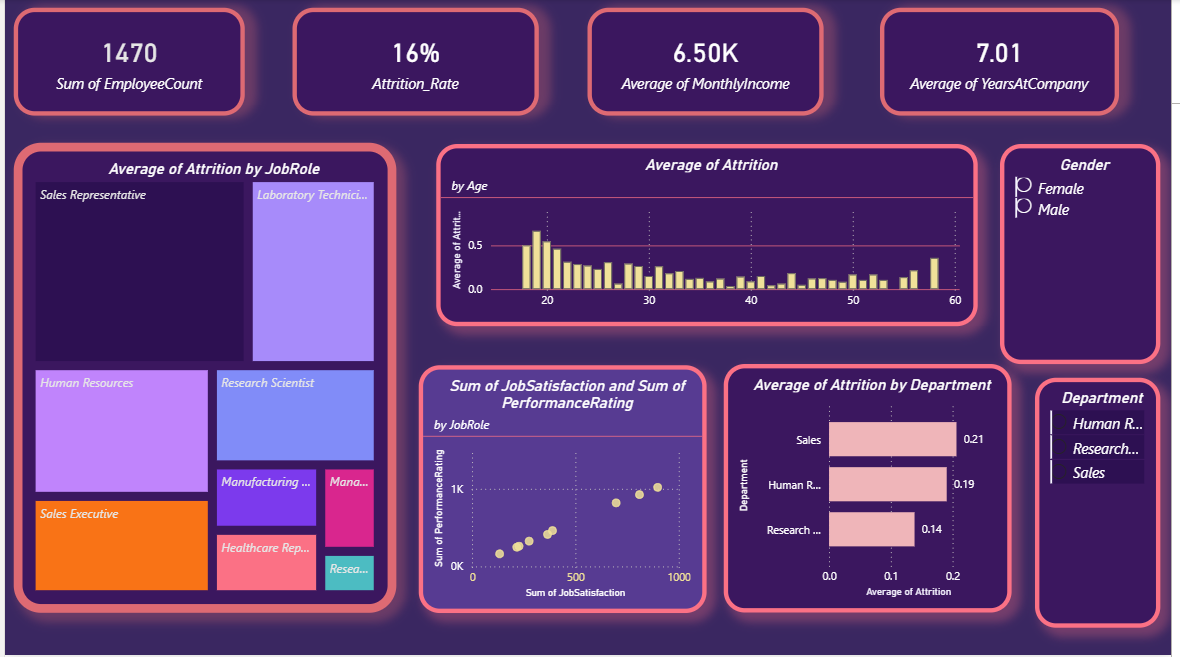

What the dashboard file says about the page in this screenshot:
{"tool":"powerbi","page":{"name":"Page 1","canvas":[1280,720],"ordinal":0},"visuals":[{"type":"card","fields":{"Values":["Sum(WA_Fn-UseC_-HR-Employee-Attrition.EmployeeCount)"]},"box":[9.6,9.6,253.9,118],"z":0},{"type":"card","fields":{"Values":["WA_Fn-UseC_-HR-Employee-Attrition.Attrition_Rate"]},"box":[315.6,9.6,270.3,118],"z":1000},{"type":"card","fields":{"Values":["Avg(WA_Fn-UseC_-HR-Employee-Attrition.MonthlyIncome)"]},"box":[639.5,9.6,259.3,118],"z":2000},{"type":"card","fields":{"Values":["Avg(WA_Fn-UseC_-HR-Employee-Attrition.YearsAtCompany)"]},"box":[960.6,9.6,262.1,118],"z":3000},{"type":"clusteredBarChart","fields":{"Category":["WA_Fn-UseC_-HR-Employee-Attrition.Department"],"Y":["Avg(WA_Fn-UseC_-HR-Employee-Attrition.Attrition)"]},"box":[789,400.7,315.6,273.1],"z":4000},{"type":"clusteredColumnChart","fields":{"Category":["WA_Fn-UseC_-HR-Employee-Attrition.Age"],"Y":["Avg(WA_Fn-UseC_-HR-Employee-Attrition.Attrition)"]},"box":[473.4,159.2,594.2,200.3],"z":5000},{"type":"scatterChart","fields":{"X":["Sum(WA_Fn-UseC_-HR-Employee-Attrition.JobSatisfaction)"],"Y":["Sum(WA_Fn-UseC_-HR-Employee-Attrition.PerformanceRating)"],"Category":["WA_Fn-UseC_-HR-Employee-Attrition.JobRole"]},"box":[454.2,402.1,315.6,271.7],"z":6000},{"type":"treemap","fields":{"Group":["WA_Fn-UseC_-HR-Employee-Attrition.JobRole"],"Values":["Avg(WA_Fn-UseC_-HR-Employee-Attrition.Attrition)"]},"box":[9.6,157.8,419.9,516],"z":7000},{"type":"listSlicer","fields":{"Values":["WA_Fn-UseC_-HR-Employee-Attrition.Department"]},"box":[1130.7,415.8,137.2,274.4],"z":8000},{"type":"listSlicer","fields":{"Values":["WA_Fn-UseC_-HR-Employee-Attrition.Gender"]},"box":[1092.3,159.2,175.6,241.5],"z":8001}]}

Visuals, with their boxes in screenshot pixels (x1, y1, x2, y2), scaled from the page's 1280x720 canvas onto the 1180x657 screenshot:
card - Sum(WA_Fn-UseC_-HR-Employee-Attrition.EmployeeCount): pyautogui.locateOnScreen(9, 9, 243, 116)
card - WA_Fn-UseC_-HR-Employee-Attrition.Attrition_Rate: pyautogui.locateOnScreen(291, 9, 540, 116)
card - Avg(WA_Fn-UseC_-HR-Employee-Attrition.MonthlyIncome): pyautogui.locateOnScreen(590, 9, 829, 116)
card - Avg(WA_Fn-UseC_-HR-Employee-Attrition.YearsAtCompany): pyautogui.locateOnScreen(886, 9, 1127, 116)
clusteredBarChart - WA_Fn-UseC_-HR-Employee-Attrition.Department x Avg(WA_Fn-UseC_-HR-Employee-Attrition.Attrition): pyautogui.locateOnScreen(727, 366, 1018, 615)
clusteredColumnChart - WA_Fn-UseC_-HR-Employee-Attrition.Age x Avg(WA_Fn-UseC_-HR-Employee-Attrition.Attrition): pyautogui.locateOnScreen(436, 145, 984, 328)
scatterChart - Sum(WA_Fn-UseC_-HR-Employee-Attrition.JobSatisfaction) x Sum(WA_Fn-UseC_-HR-Employee-Attrition.PerformanceRating): pyautogui.locateOnScreen(419, 367, 710, 615)
treemap - WA_Fn-UseC_-HR-Employee-Attrition.JobRole x Avg(WA_Fn-UseC_-HR-Employee-Attrition.Attrition): pyautogui.locateOnScreen(9, 144, 396, 615)
listSlicer - WA_Fn-UseC_-HR-Employee-Attrition.Department: pyautogui.locateOnScreen(1042, 379, 1169, 630)
listSlicer - WA_Fn-UseC_-HR-Employee-Attrition.Gender: pyautogui.locateOnScreen(1007, 145, 1169, 366)
